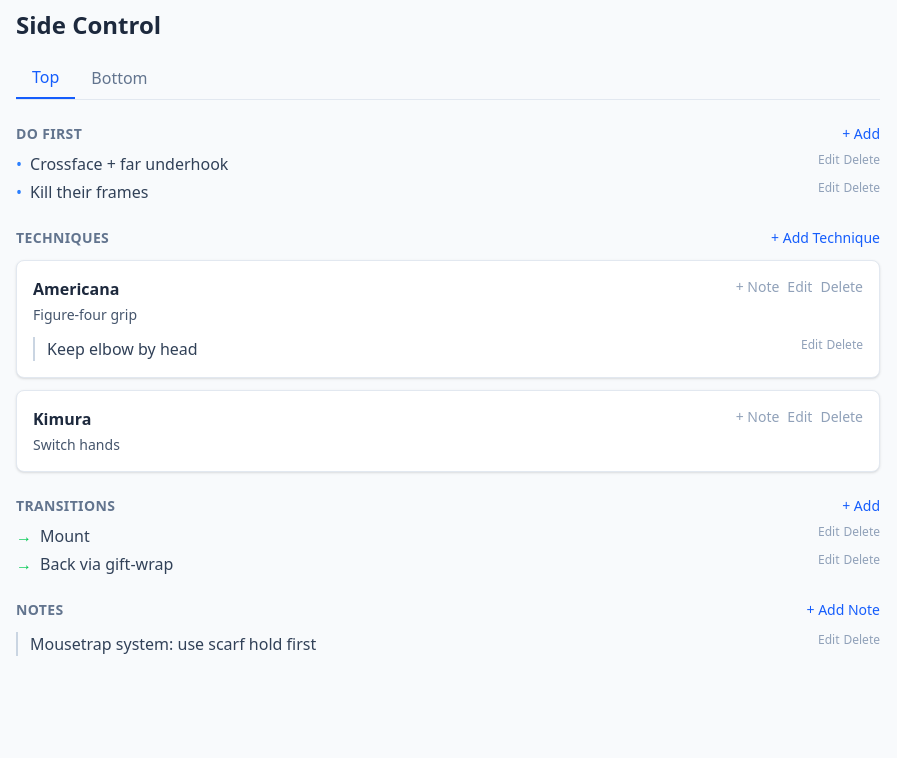
Test: PositionView › opens note form when "+ Add Note" clicked
// Find the add note button in the Notes section (last one)
Click the button "+ Add Note" at (843, 610), box top-left (806, 600), bottom-right (880, 620)
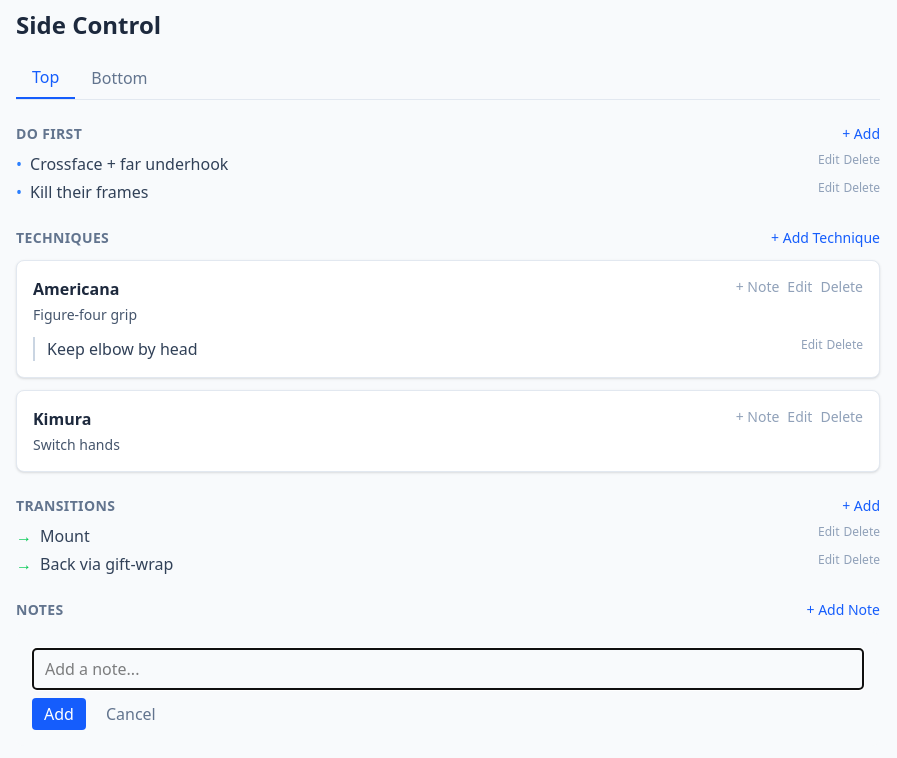
Now the field with placeholder "Add a note..." is shown, box top-left (32, 648), bottom-right (864, 690)
